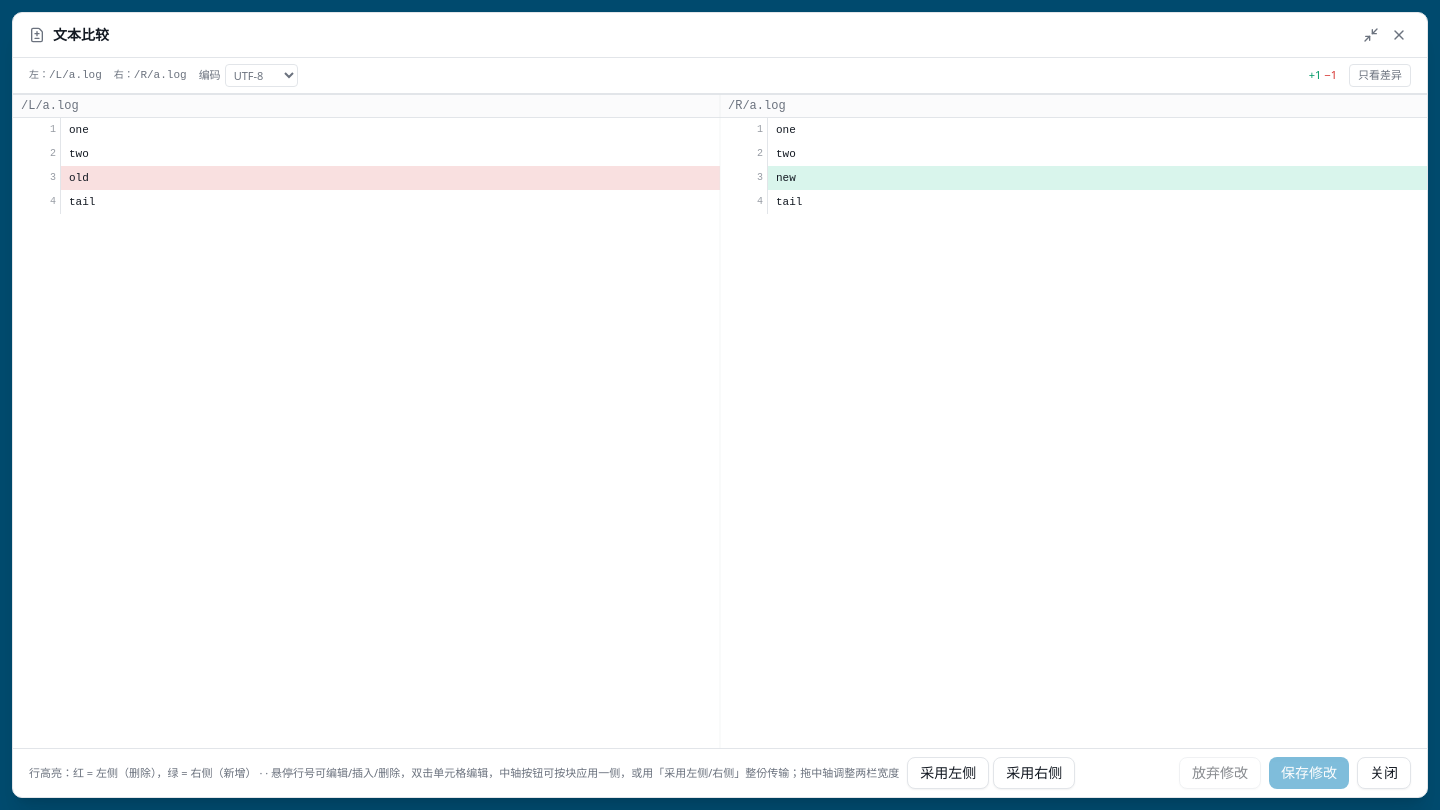
Test: TextDiffDialog（v0.19 文本比较） › v0.34 编辑成与左侧相同后整块变 eq，统计归零并显示相同徽标
Step 1. Double-click the text "new" → (786, 178), box [776,172,796,184]
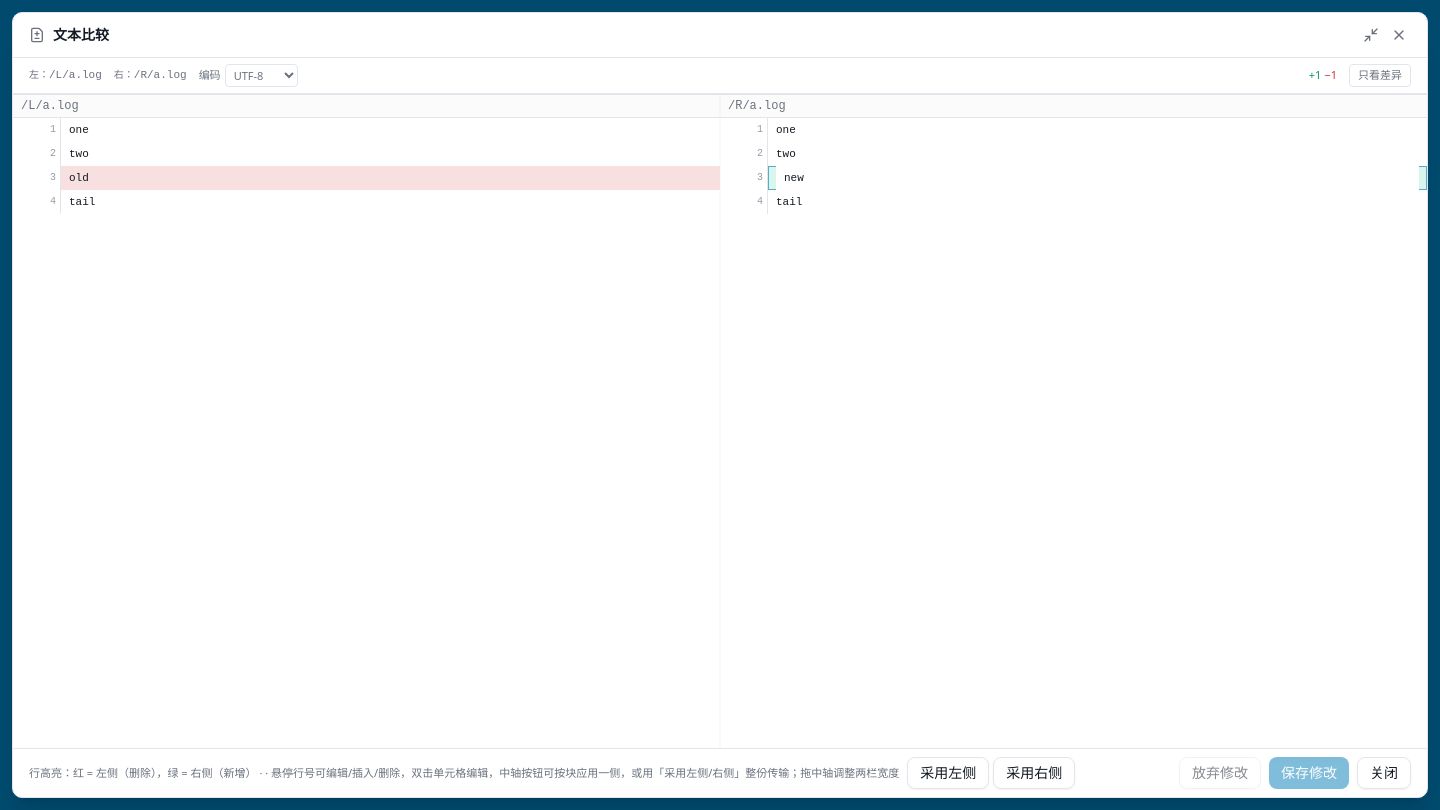
Step 2. Replace the text in the field showing "new" with "old" → (1098, 178), box [776,166,1419,190]
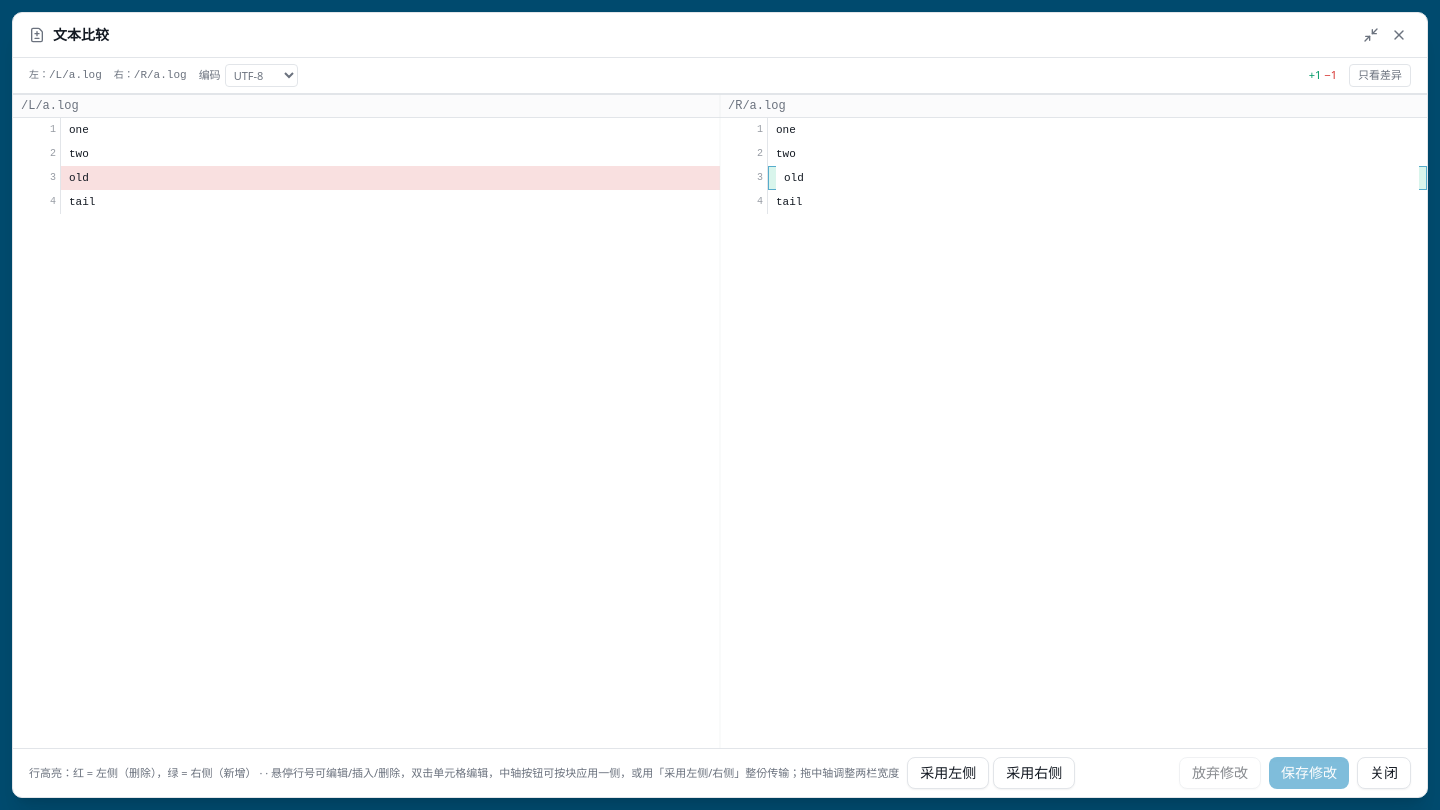
Step 3. Press Enter in the field showing "new", box [776,166,1419,190]
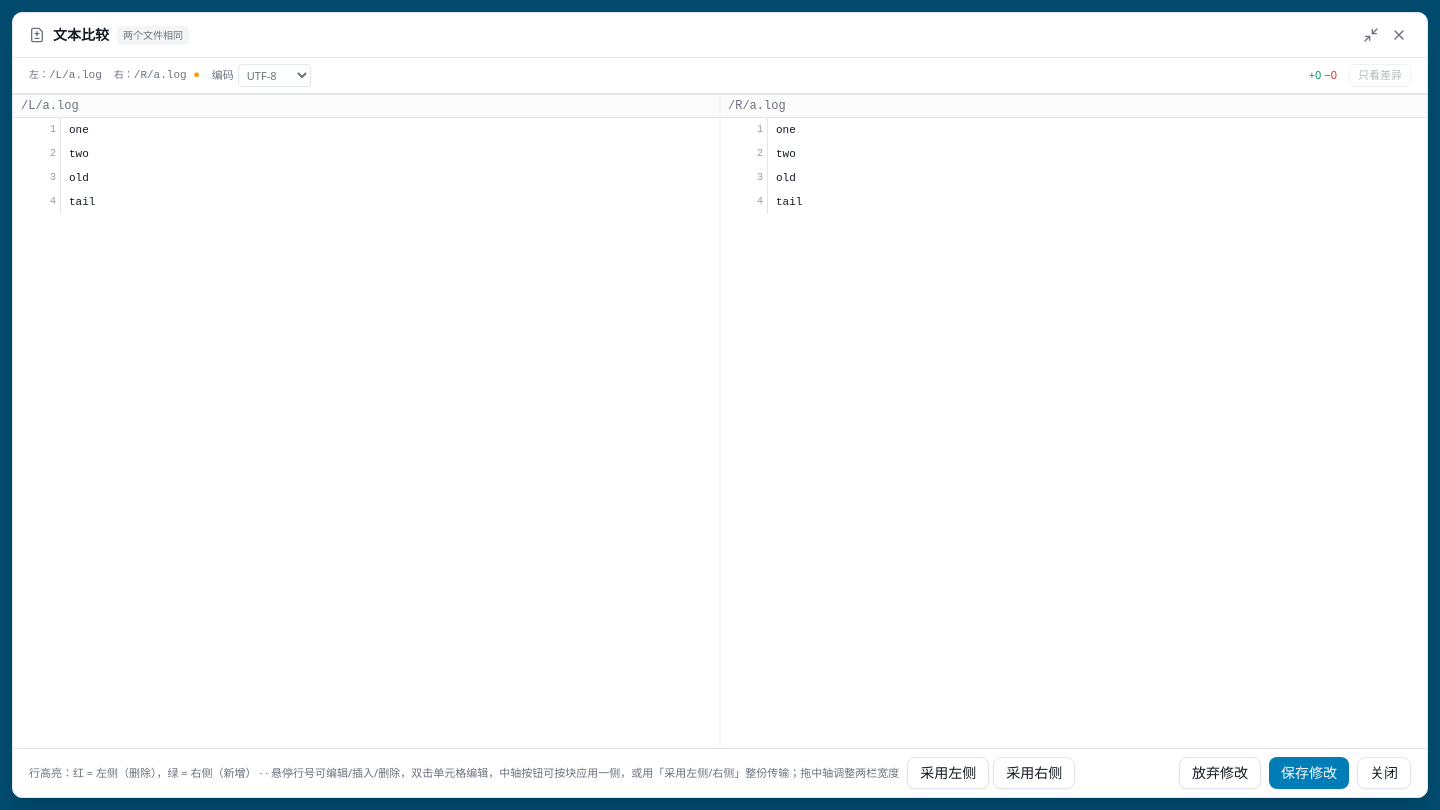
expect the text "两个文件相同" is shown: met, box [117,26,189,44]
expect the text "+0" is shown: met, box [1309,67,1321,82]
